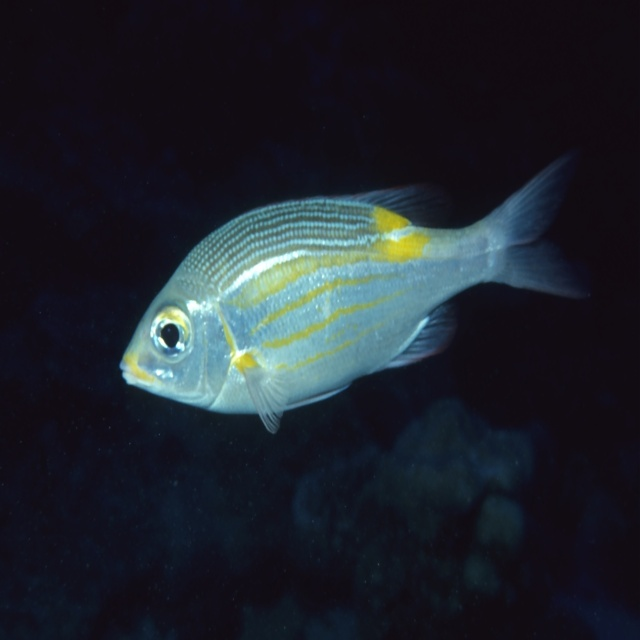Fish: (126, 158, 593, 440)
